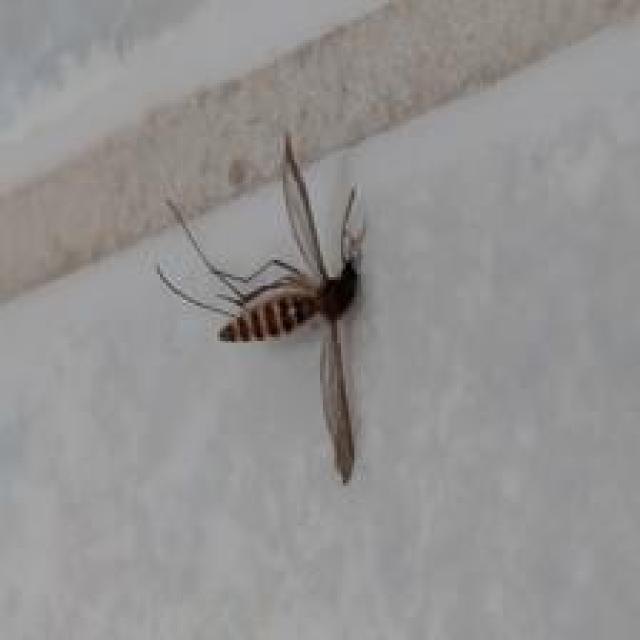Culex: (154, 130, 369, 484)
